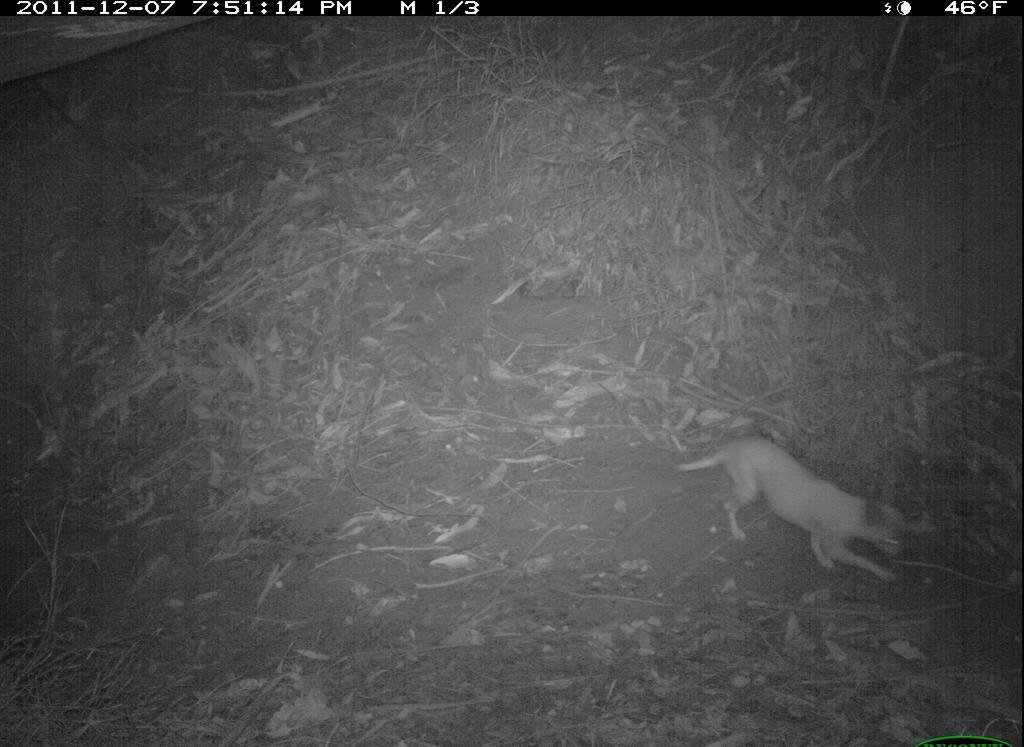dog: (673, 425, 918, 591)
